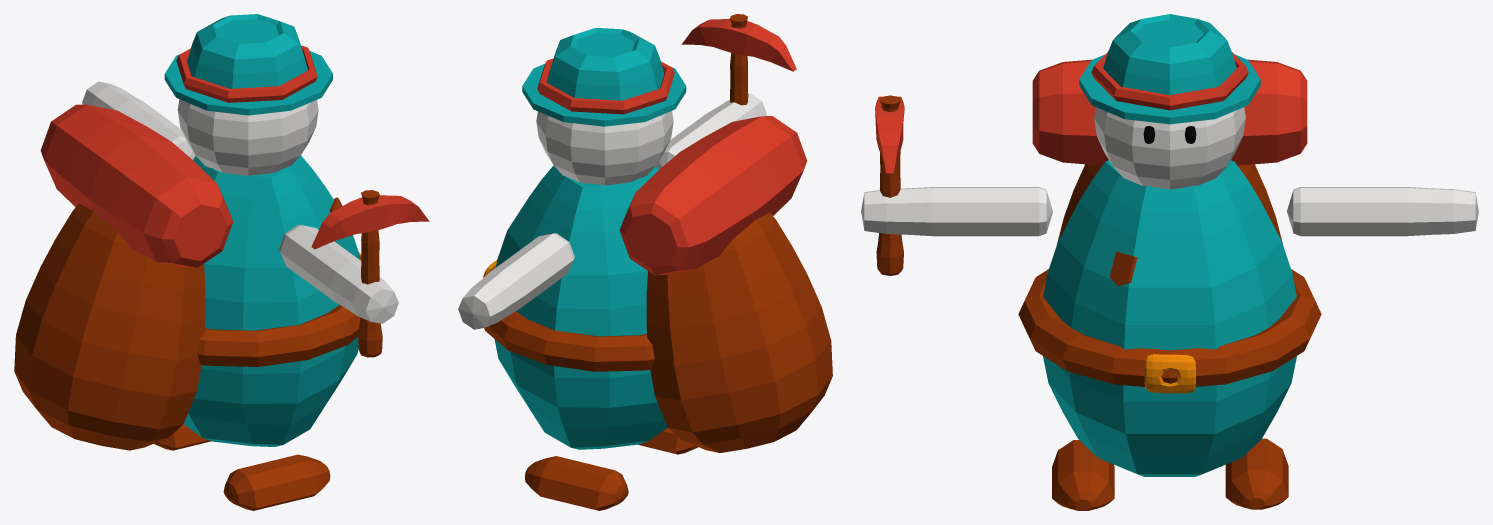
The model's file is Character.fbx.
3 views of the same model, side by side, from view 1: azimuth 30°, elevation 25°; view 2: azimuth 150°, elevation 25°; view 3: azimuth 270°, elevation 25° (orthographic). The views are drawn at different scales.
Parts seen in each view (by area): view 1: Backback, Body, Roller, Head, Cup, Belt, R_Hand, Foot.001, Pickaxe Head, Wing, Ribbon, L_Hand (+2 smaller); view 2: Backback, Body, Roller, Head, Cup, Belt, L_Hand, Foot, Pickaxe Head, Wing, Ribbon, R_Hand (+2 smaller); view 3: Body, Belt, Roller, L_Hand, R_Hand, Head, Cup, Wing, Foot, Foot.001, Ribbon, Handle (+4 smaller).
Boxes of the visible parts, <box> form: Backback: <box>14,203,205,450</box>; Body: <box>184,155,359,446</box>; Roller: <box>40,104,232,267</box>; Head: <box>177,99,318,175</box>; Cup: <box>187,14,307,88</box>; Belt: <box>197,305,360,366</box>; R_Hand: <box>279,225,398,323</box>; Foot.001: <box>223,454,330,510</box>; Pickaxe Head: <box>311,195,429,249</box>; Wing: <box>164,50,332,115</box>; Ribbon: <box>176,45,317,102</box>; L_Hand: <box>82,81,195,159</box>; Backback: <box>646,212,832,452</box>; Body: <box>494,165,667,449</box>; Roller: <box>619,116,807,275</box>; Head: <box>536,111,673,185</box>; Cup: <box>546,28,664,100</box>; Belt: <box>484,311,654,371</box>; L_Hand: <box>458,233,574,329</box>; Foot: <box>525,456,628,510</box>; Pickaxe Head: <box>681,18,796,71</box>; Wing: <box>522,64,686,126</box>; Ribbon: <box>537,58,674,114</box>; R_Hand: <box>656,93,766,169</box>; Body: <box>1043,160,1296,476</box>; Belt: <box>1018,269,1321,386</box>; Roller: <box>1032,59,1307,165</box>; L_Hand: <box>1287,187,1478,236</box>; R_Hand: <box>861,187,1052,236</box>; Head: <box>1094,107,1245,189</box>; Cup: <box>1103,14,1236,95</box>; Wing: <box>1079,54,1260,124</box>; Foot: <box>1225,438,1288,509</box>; Foot.001: <box>1052,440,1114,510</box>; Ribbon: <box>1091,52,1248,110</box>; Handle: <box>876,95,903,275</box>.
Bounding box in the file's own units: 238 × 297 × 355.
